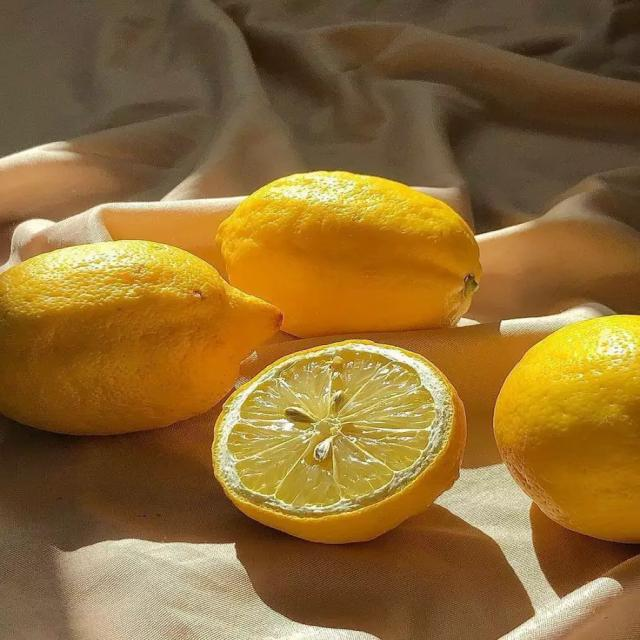lemon: (0, 241, 280, 434), (214, 341, 466, 543), (217, 172, 480, 335), (495, 316, 639, 541)
